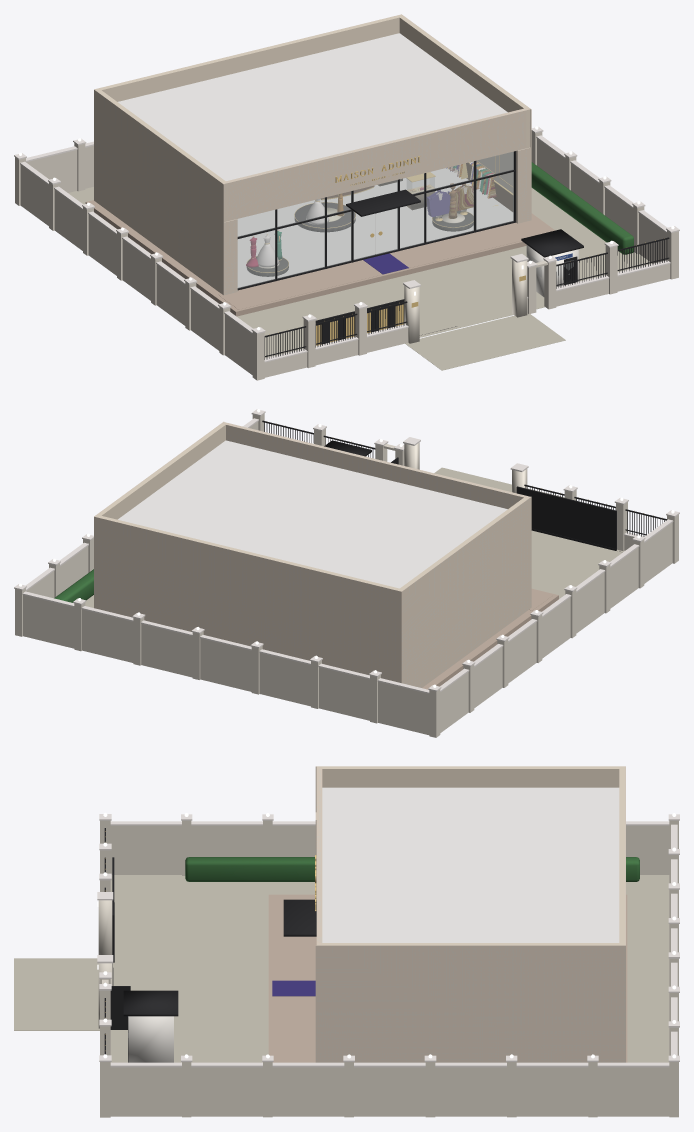
File: set_maison_adunni.glb
The picture shows the model from 3 angles, top to bottom: view 1: azimuth 30°, elevation 25°; view 2: azimuth 150°, elevation 25°; view 3: azimuth 270°, elevation 25°; orthographic projection. The views are drawn at different scales.
Visible parts, largest first — view 1: GR_set_maison_adunni, GD_set_maison_adunni; view 2: GR_set_maison_adunni; view 3: GR_set_maison_adunni, GD_set_maison_adunni.
Part boxes in pixels (left/top/right/bottom): GR_set_maison_adunni: left=14, top=14, right=679, bottom=380; GD_set_maison_adunni: left=246, top=161, right=567, bottom=276; GR_set_maison_adunni: left=14, top=409, right=679, bottom=737; GR_set_maison_adunni: left=14, top=766, right=679, bottom=1117; GD_set_maison_adunni: left=272, top=980, right=315, bottom=996.
Bounding box in the file's own units: 25.54 × 6.71 × 29.15.
21 materials, 6 textured.
